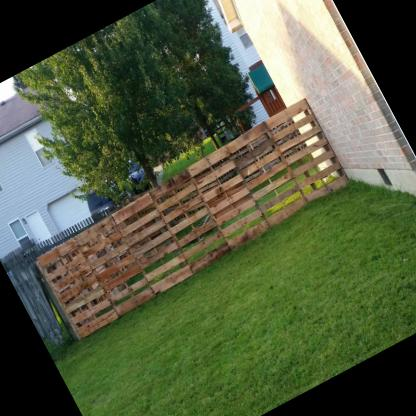BoxFace: (264, 100, 351, 205), (76, 216, 156, 317)
